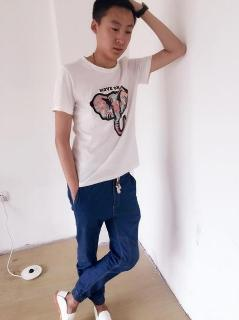short sleeve top: (51, 55, 153, 187)
trousers: (67, 167, 141, 305)
